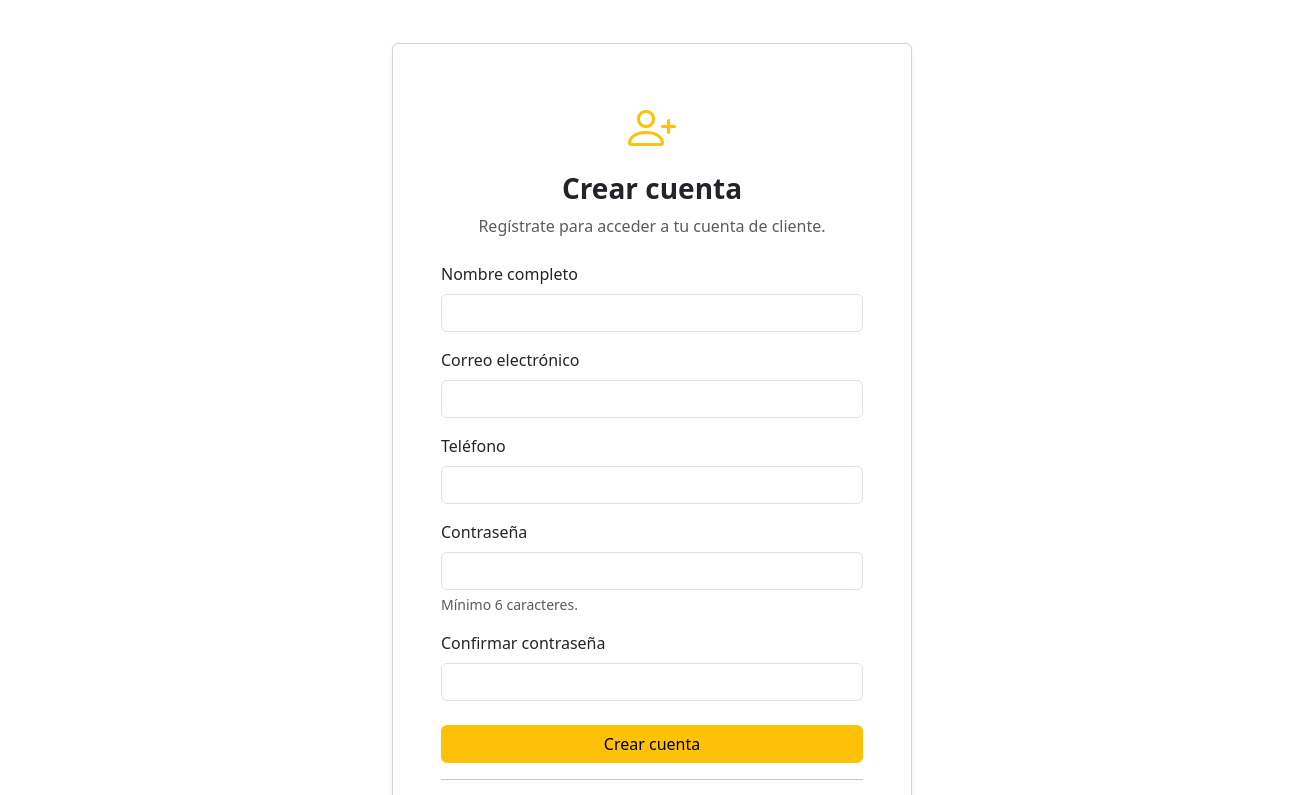
Test: Register › muestra el error devuelto cuando el registro falla
Type "Cliente de prueba" into the field labelled "Nombre completo". click: (652, 313)
box: [441,294,863,332]
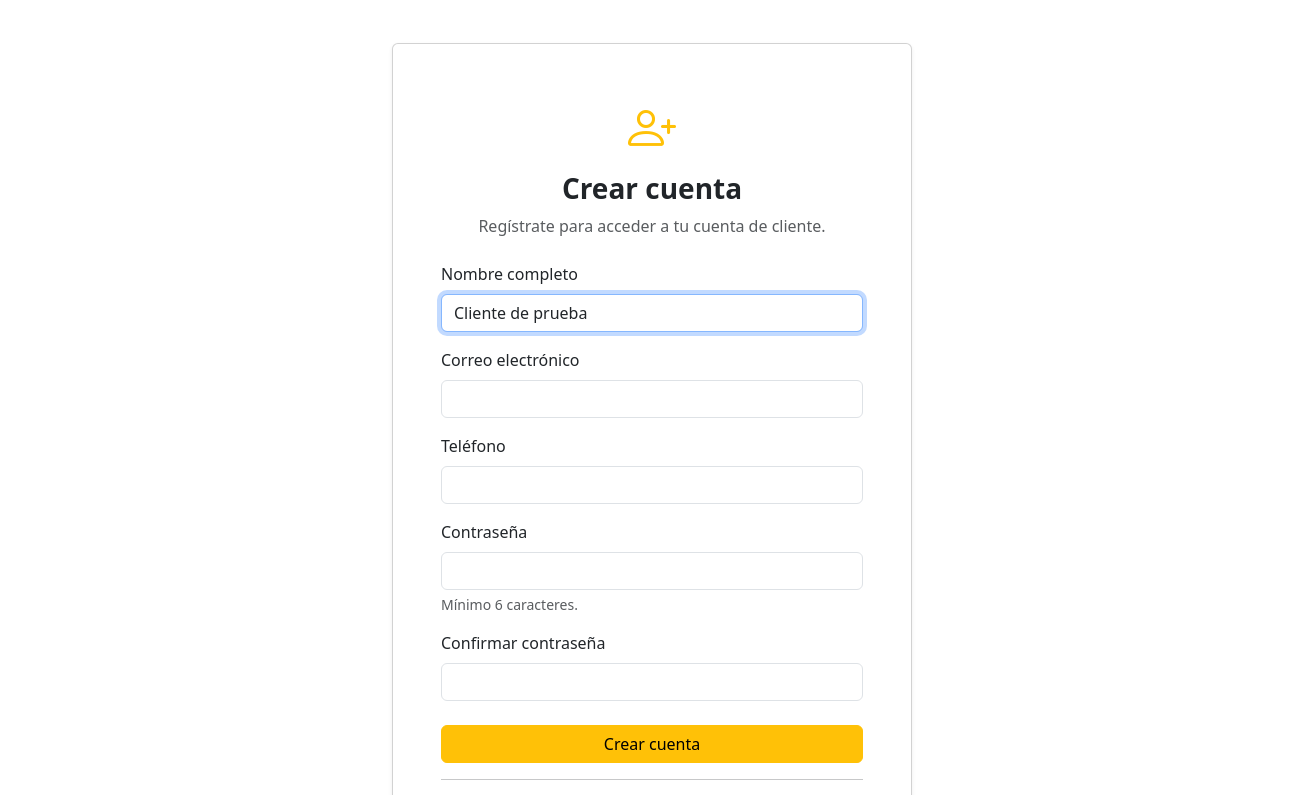
Type "cliente@ejemplo.cl" into the field labelled "Correo electrónico". click: (652, 399)
box: [441,380,863,418]
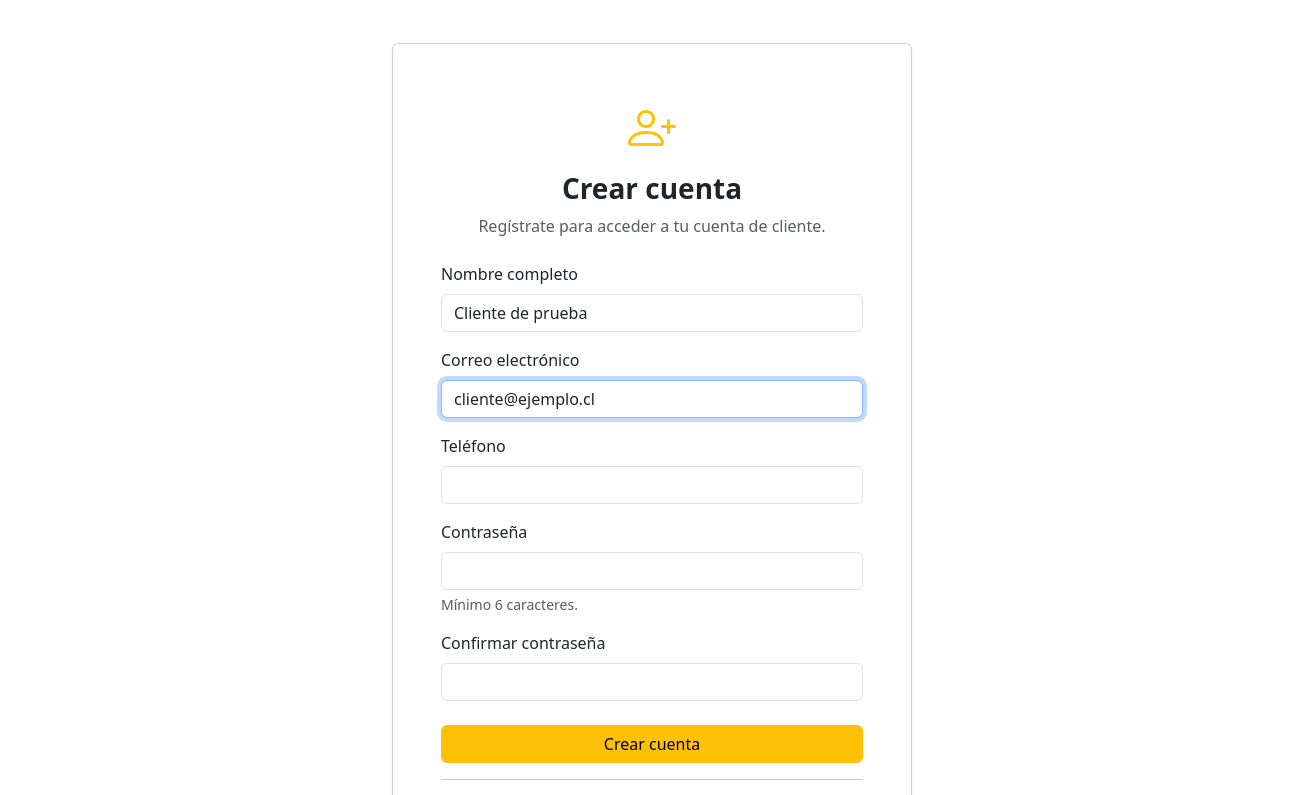
Type "912345678" into the field labelled "Teléfono". click: (652, 485)
box: [441,466,863,504]
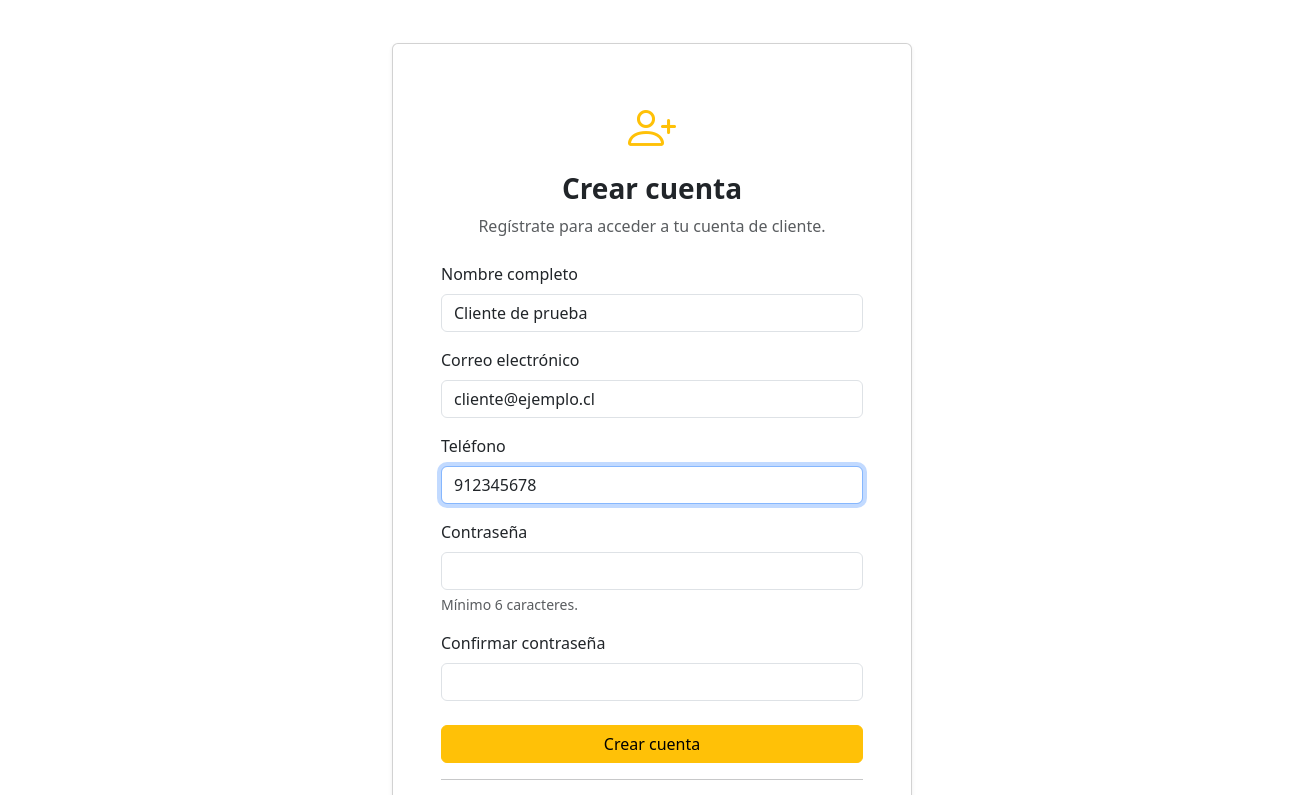
Type "clave123" into the password field labelled "Contraseña". click: (652, 571)
box: [441,552,863,590]
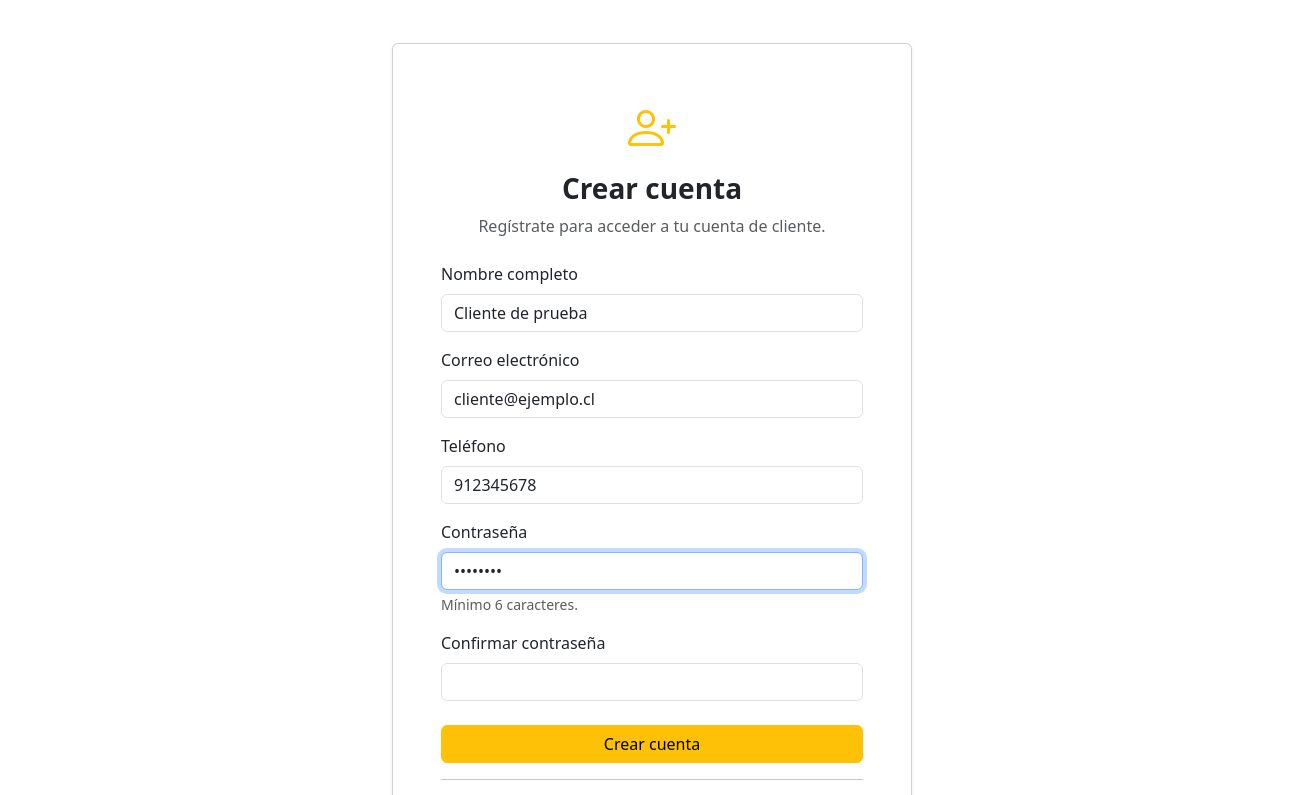
Type "clave123" into the password field labelled "Confirmar contraseña". click: (652, 682)
box: [441,663,863,701]
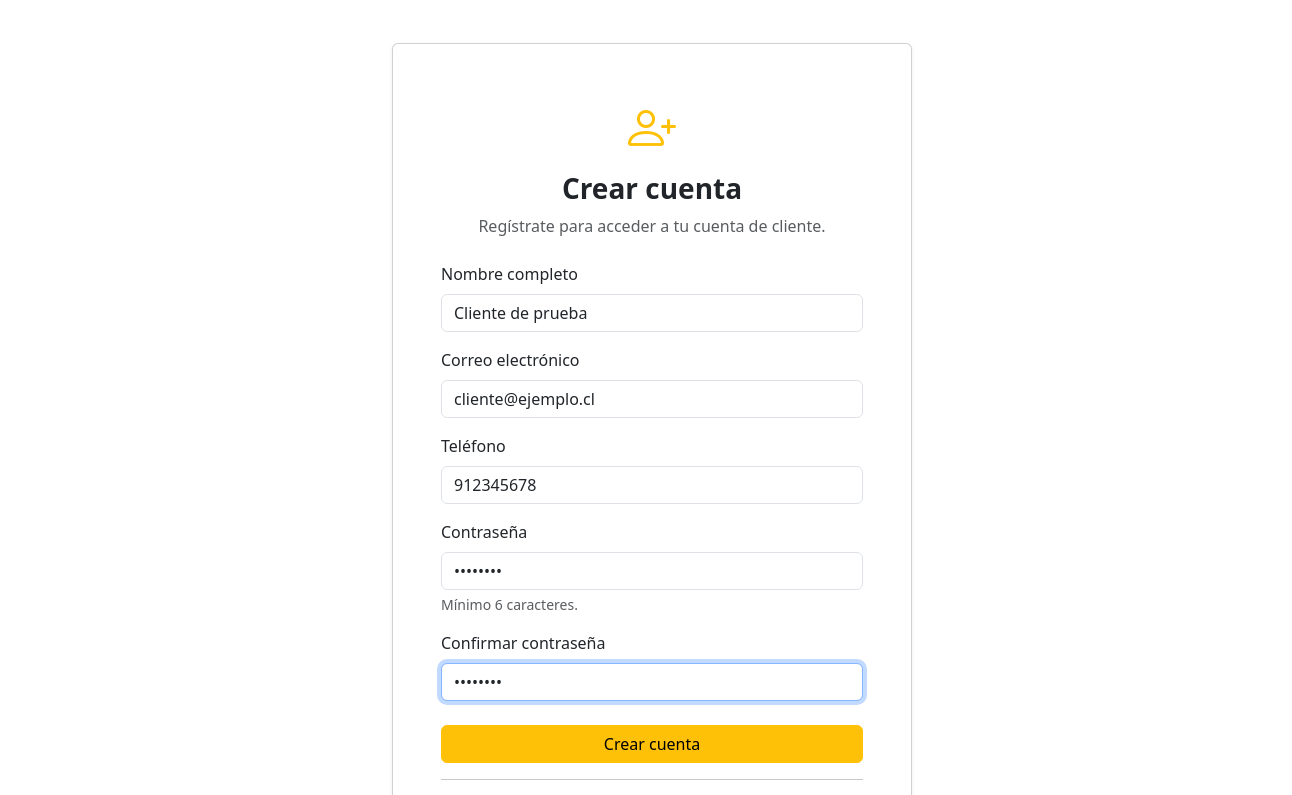
Click the button "Crear cuenta". click: (652, 744)
box: [441,725,863,763]
(page scrolled)
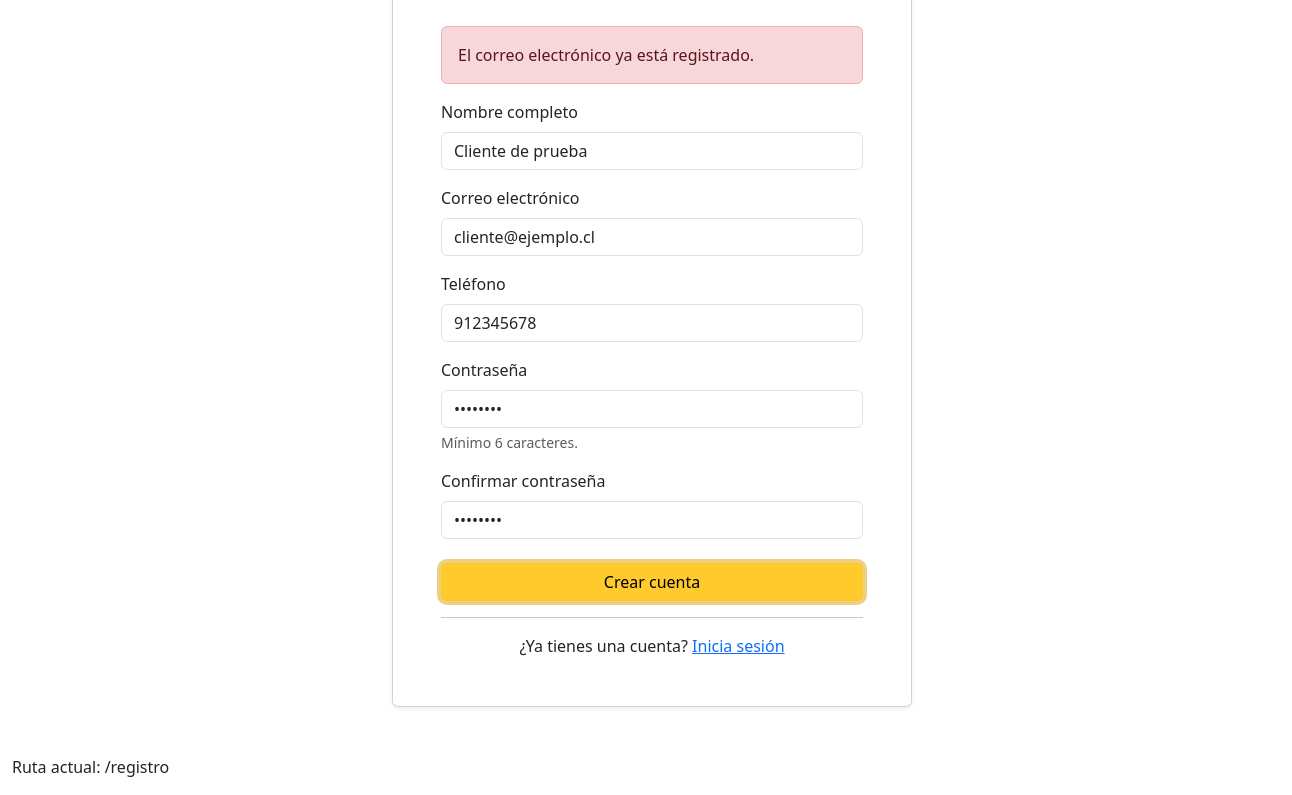
Check: the text "Ruta actual: /registro" is shown, box [12,756,169,778]
Check: the message reads "El correo electrónico ya está registrado.", box [458,44,754,66]
